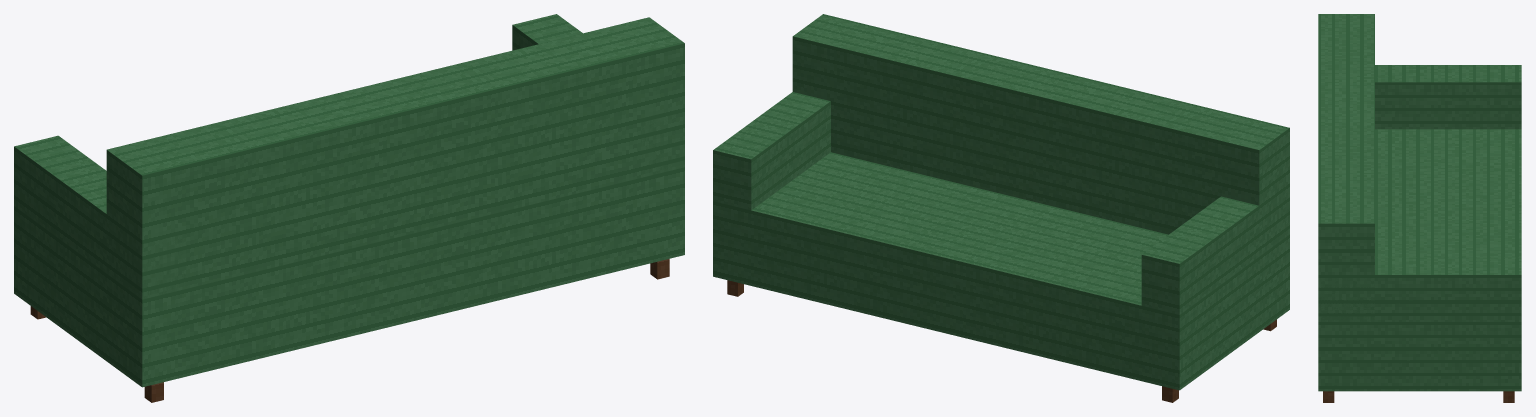
File: sofa_green.glb
The picture shows the model from 3 angles, left to right: view 1: azimuth 30°, elevation 25°; view 2: azimuth 150°, elevation 25°; view 3: azimuth 270°, elevation 25°; orthographic projection. The views are drawn at different scales.
Visible parts, largest first — view 1: sofa_green; view 2: sofa_green; view 3: sofa_green.
Part boxes in pixels (x1,y1,x2,y2): sofa_green: (14, 14, 684, 402); sofa_green: (713, 14, 1289, 402); sofa_green: (1318, 14, 1521, 402).
Size of the model in its own units: 2.2 by 0.9 by 0.9.
Materials: 2 (2 with a texture image).
